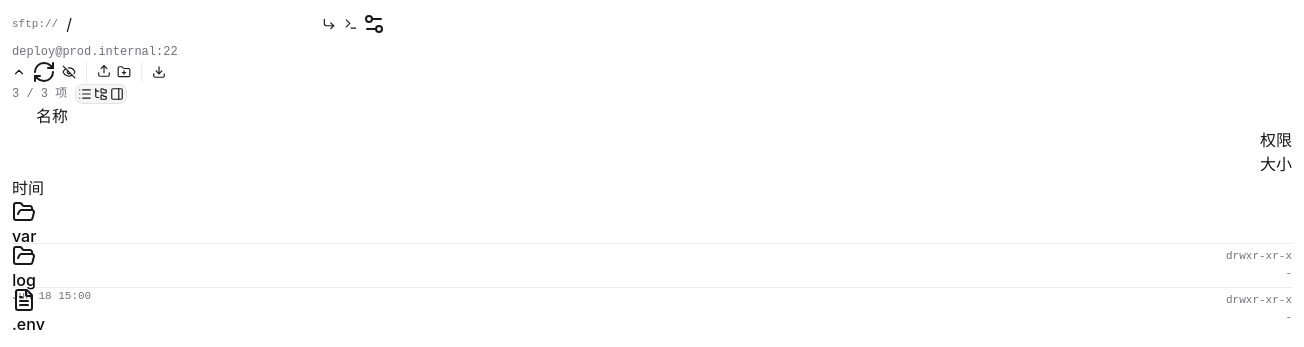
Test: SftpToolContent remote browser requests › keeps the newest remote directory when an older request resolves last
This screenshot has width=1304, height=347.
Expected: the text "var" is shown, [12, 226, 36, 246]
Replace the text in the field named "当前远程路径" with "/var/log" at (190, 24), box [66, 12, 314, 36]
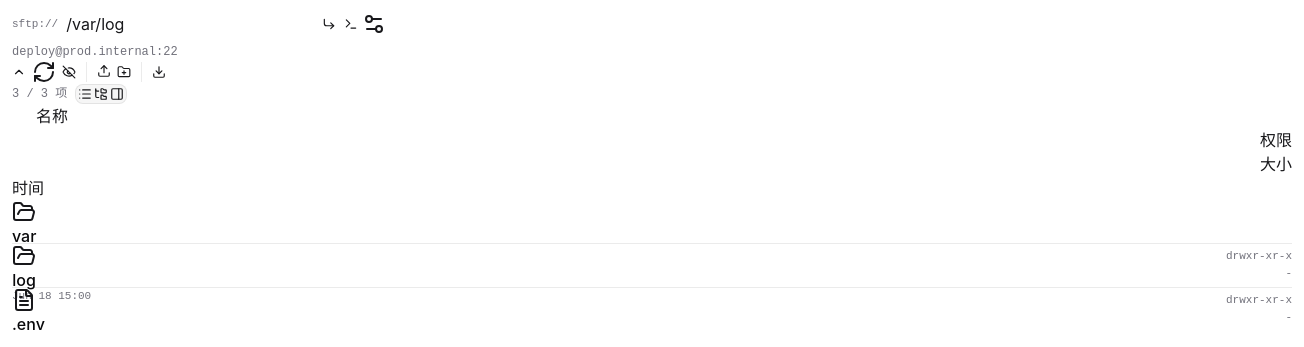
Submit the form named "当前远程路径", box [11, 12, 386, 46]
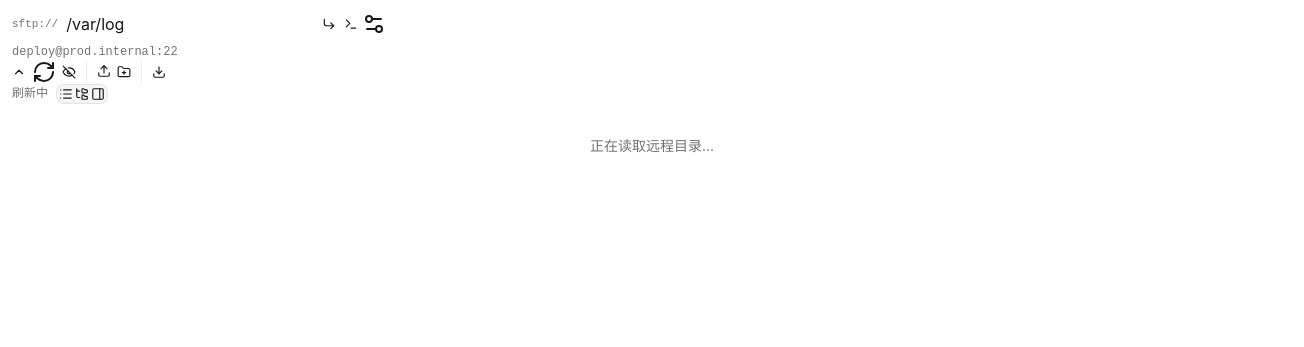
Replace the text in the field named "当前远程路径" with "/srv/app" at (190, 24), box [66, 12, 314, 36]
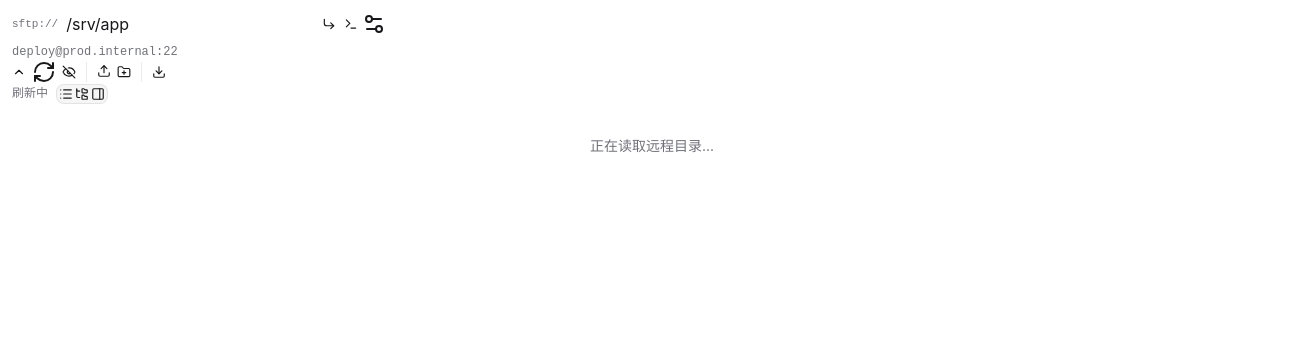
Submit the form named "当前远程路径", box [11, 12, 386, 46]
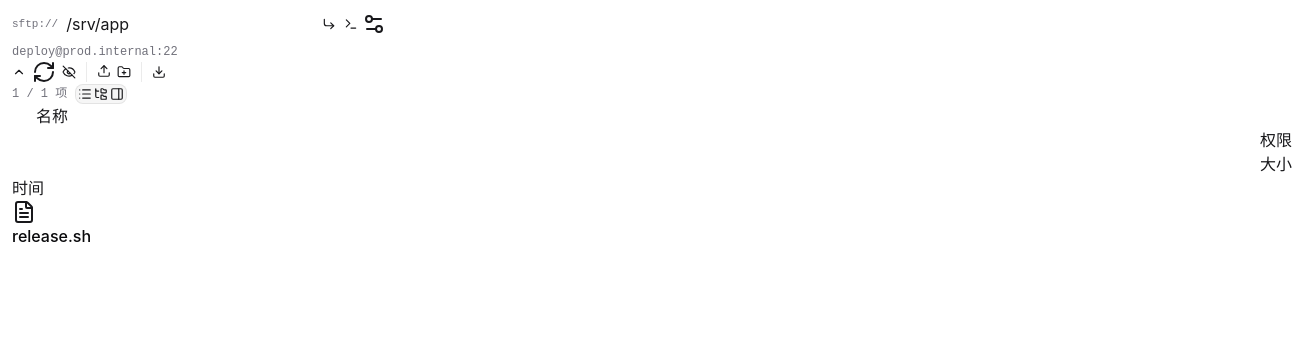
Now the text "release.sh" is shown, box [12, 226, 91, 244]
